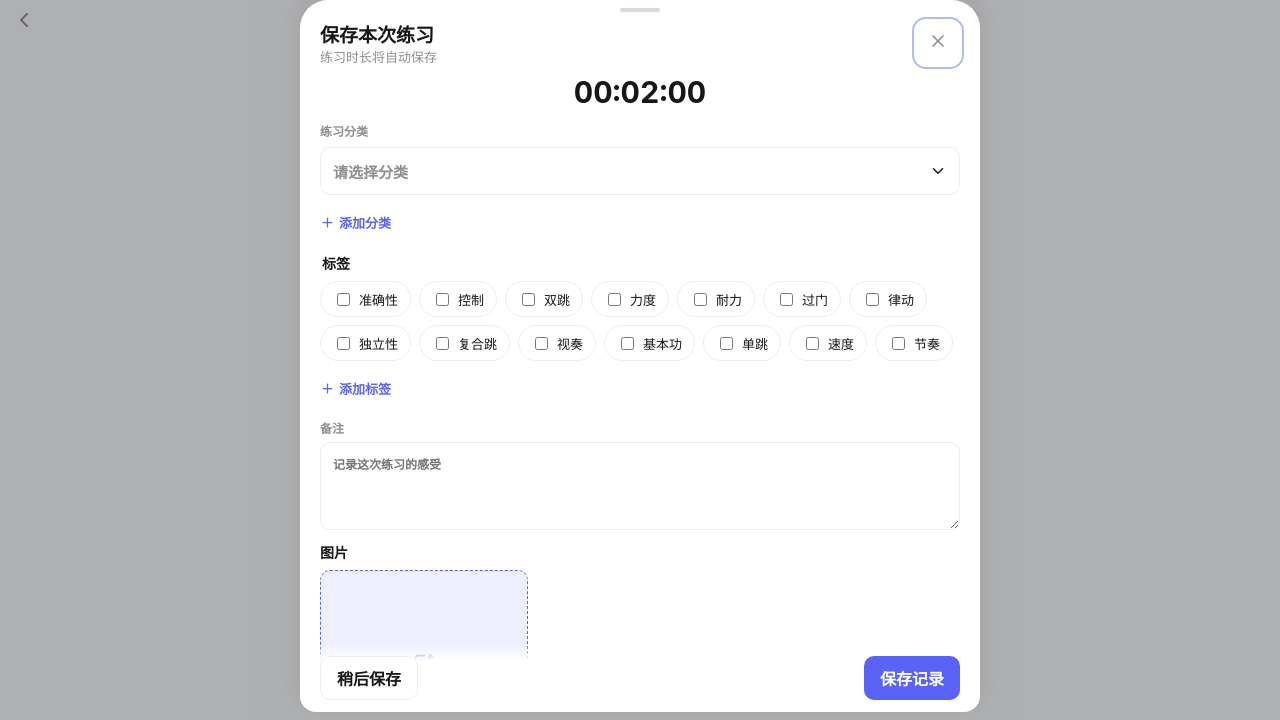
Test: TimerPage › restores a pending draft into the save sheet only after the recovery action
Expected: the dialog "保存本次练习" shows "02:00", [574,74,706,110]
Click the button with aria-label "选择练习分类" at (371, 172), box [320,147,960,195]
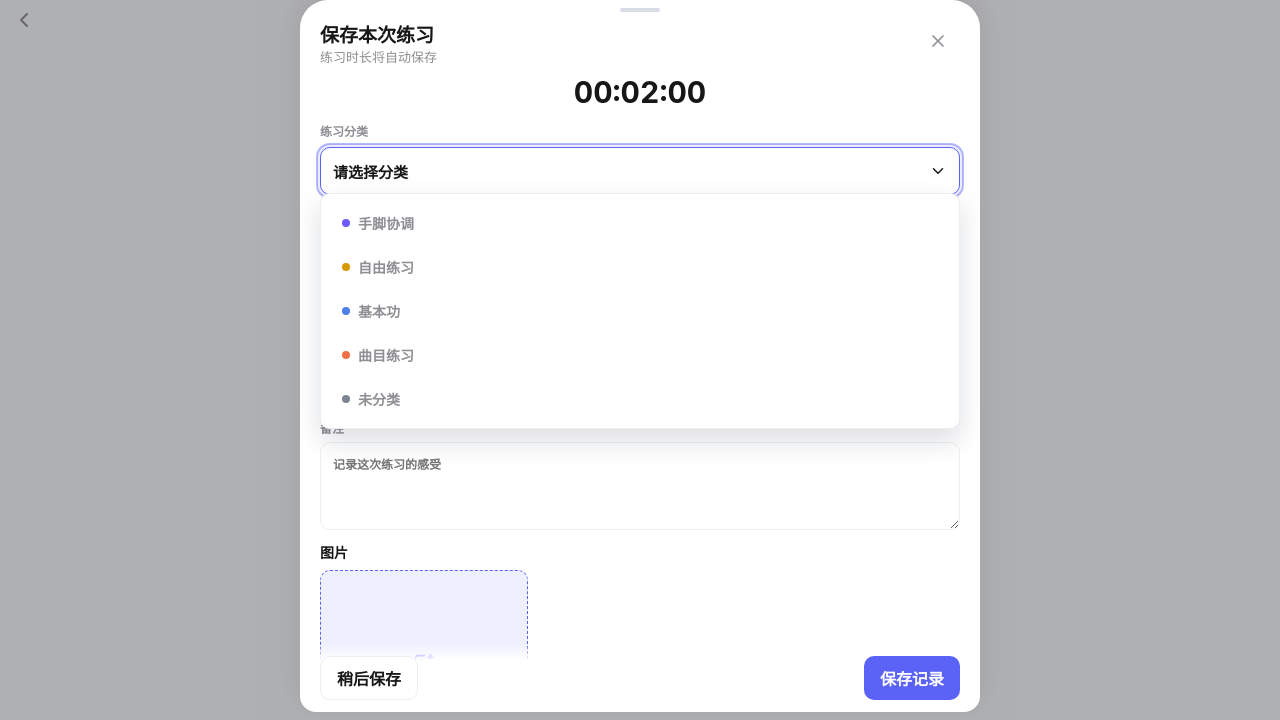
Expected: the button "保存记录" is disabled, [864,656,960,700]
Now the option "未分类" is shown, box [329,378,951,420]
